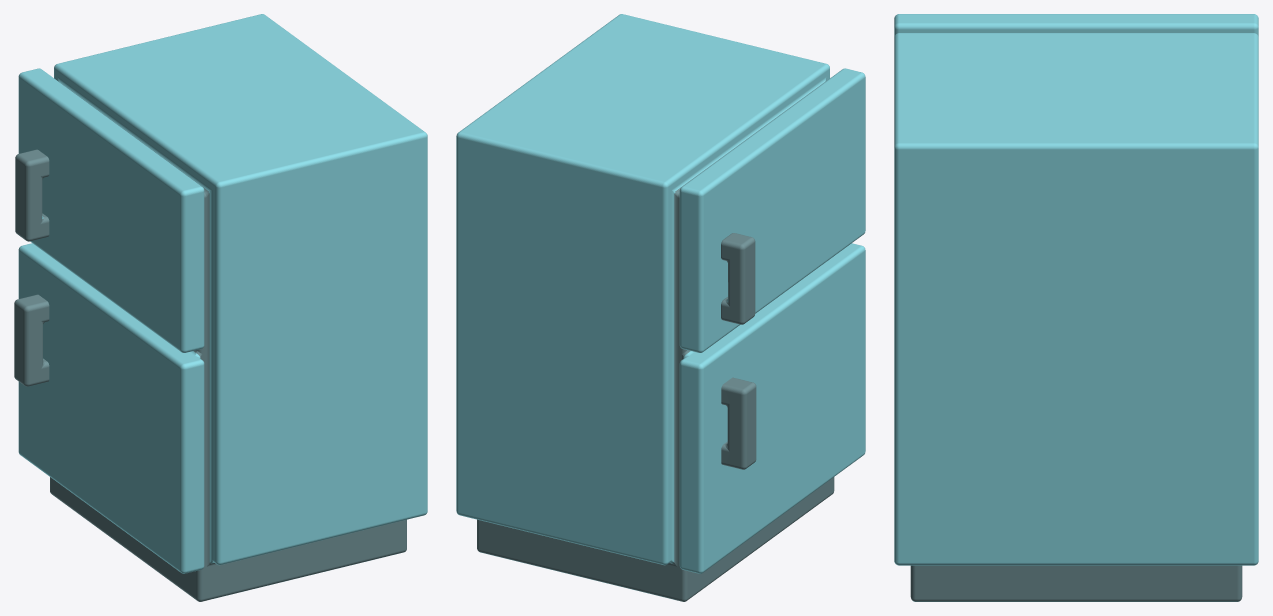
File: Fridge.fbx
The picture shows the model from 3 angles, left to right: view 1: azimuth 30°, elevation 25°; view 2: azimuth 150°, elevation 25°; view 3: azimuth 270°, elevation 25°; orthographic projection. The views are drawn at different scales.
Visible parts, largest first — view 1: Cube; view 2: Cube; view 3: Cube.
Part boxes in pixels (<box>): Cube: <box>14,14,427,601</box>; Cube: <box>456,14,865,601</box>; Cube: <box>894,14,1258,601</box>.
Bounding box in the file's own units: 208 × 310 × 220.
